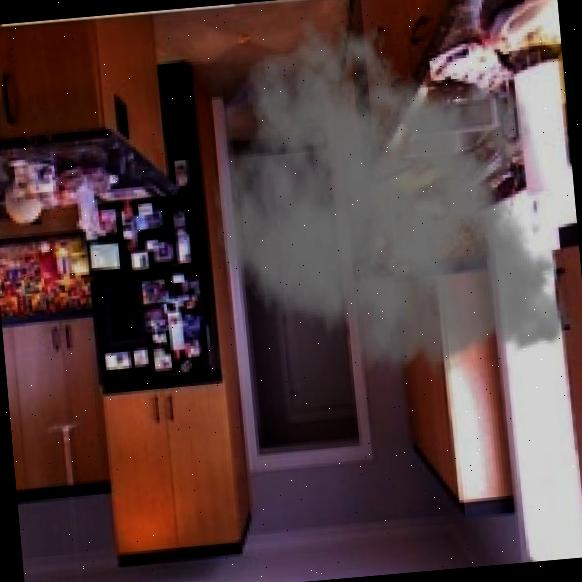smoke: (197, 0, 582, 397)
